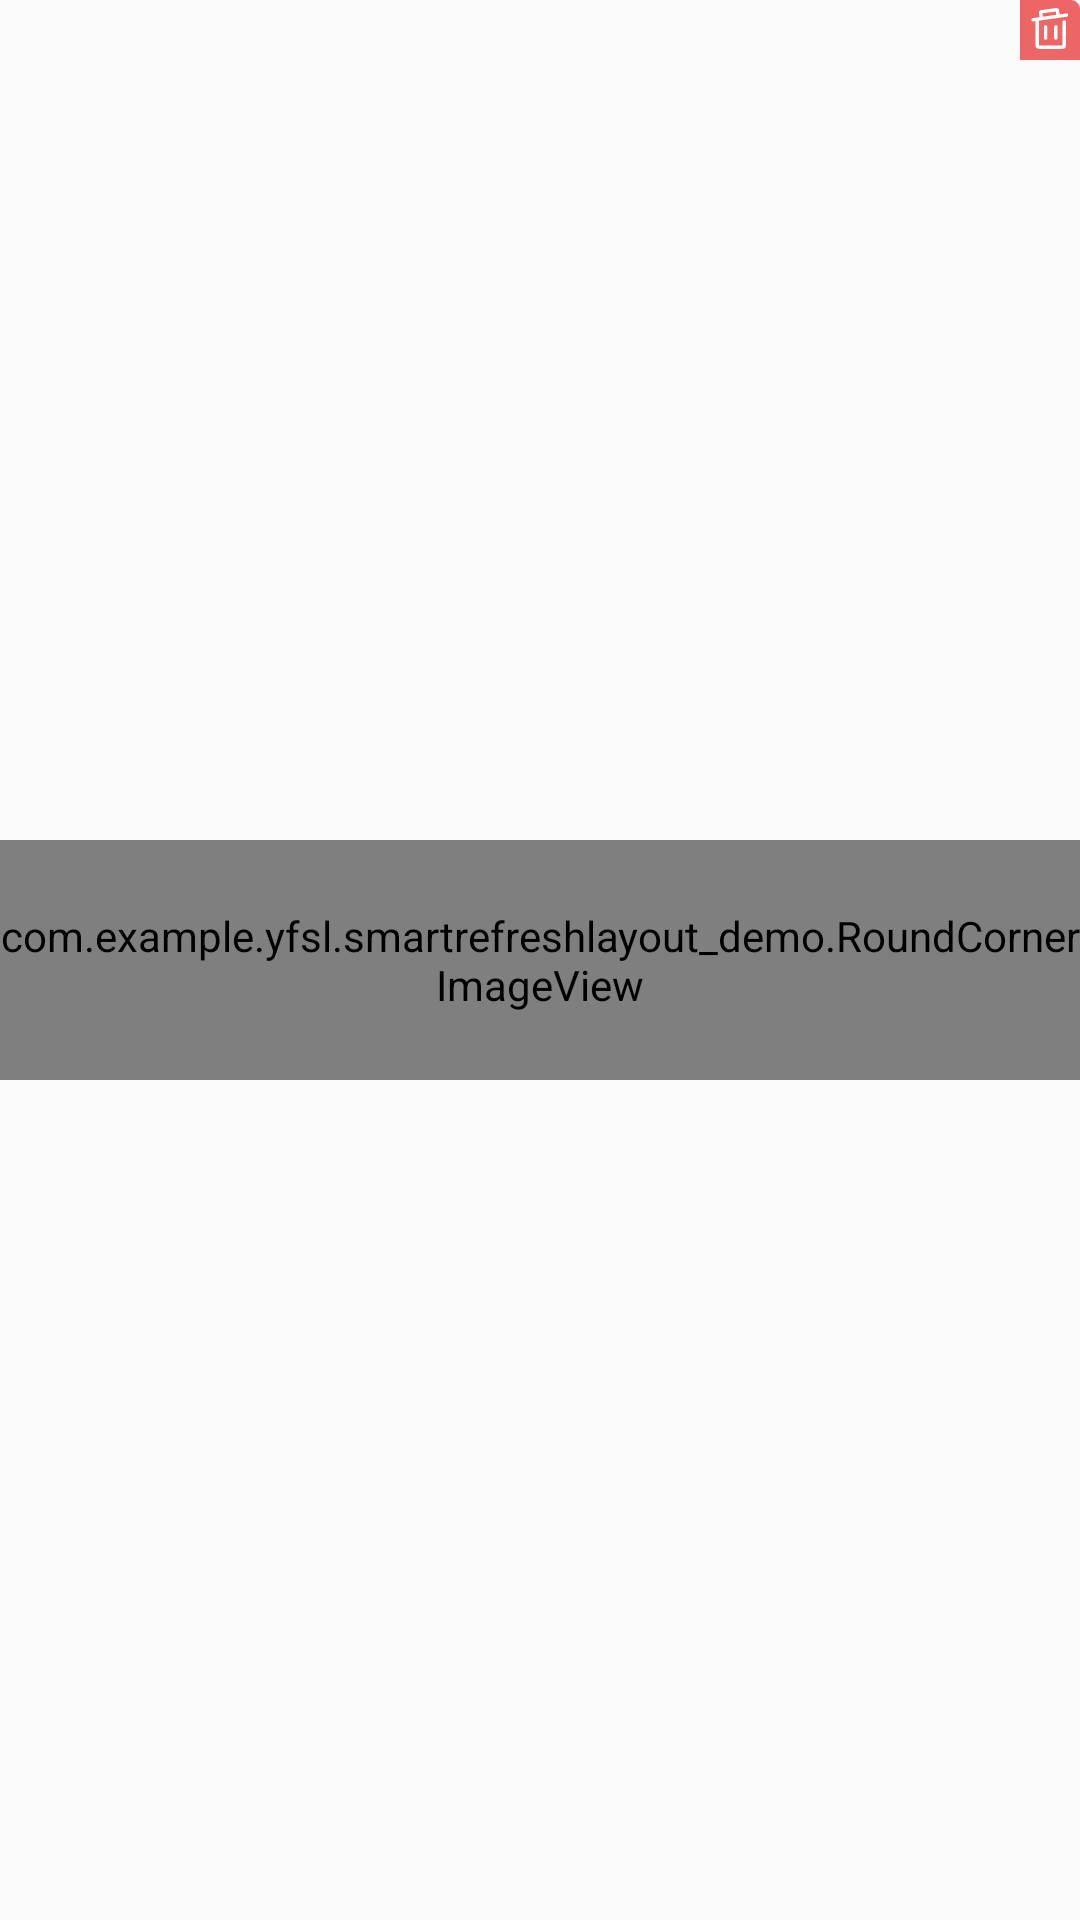

Screen size 1080 x 1920. Icon name, then its center in pixels as (x=x, y=y):
remove: (x=1049, y=28)
